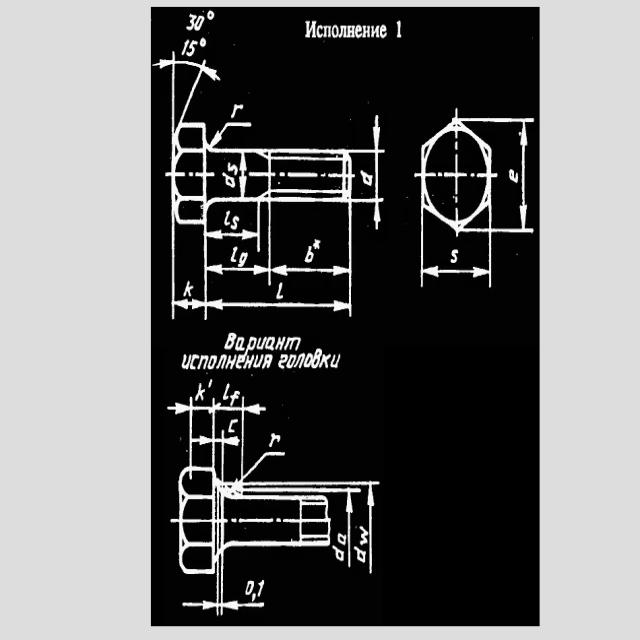marking_line: (208, 300, 351, 314), (371, 114, 384, 234), (170, 399, 265, 415), (179, 597, 271, 613), (517, 124, 529, 230), (423, 265, 490, 282), (366, 485, 378, 573), (344, 491, 356, 573), (273, 265, 349, 277), (207, 263, 268, 277), (191, 435, 244, 445), (208, 231, 257, 241), (237, 153, 247, 198), (174, 301, 203, 312)
numeric: (246, 577, 268, 601), (187, 13, 205, 33), (179, 38, 197, 55)
special_symbol: (153, 54, 213, 120), (211, 116, 253, 149)
